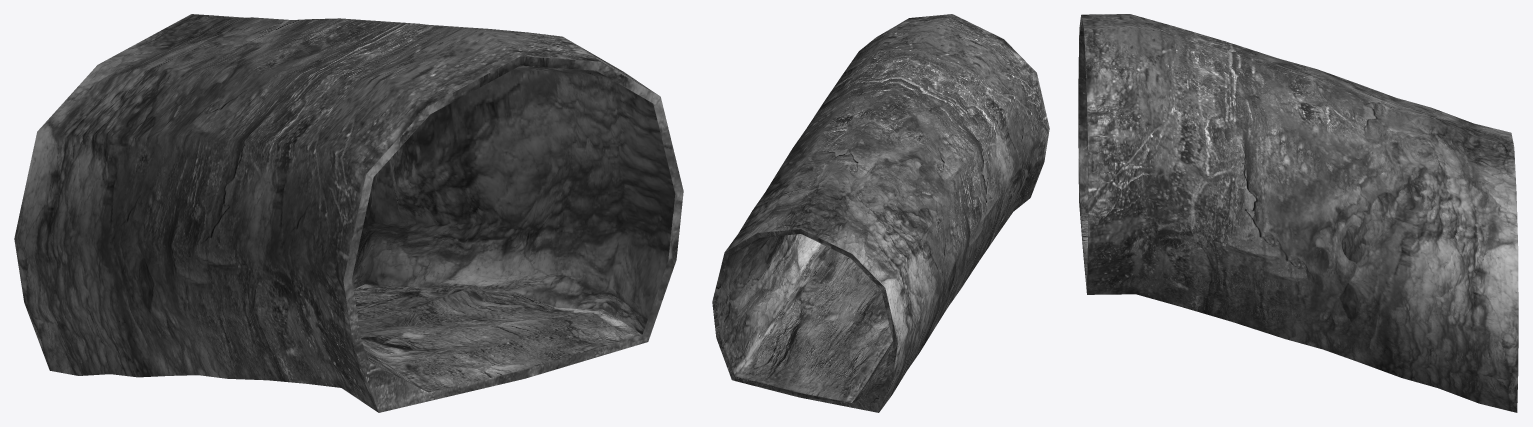
The model's file is caveramp1.fbx.
3 renders of one model, left to right at view 1: azimuth 30°, elevation 25°; view 2: azimuth 150°, elevation 25°; view 3: azimuth 270°, elevation 25°, orthographic. The views are drawn at different scales.
Parts seen in each view (by area): view 1: Group11_cave6; view 2: Group11_cave6; view 3: Group11_cave6.
Boxes of the visible parts, x1,y1,x2,y2 form: Group11_cave6: [14, 14, 683, 412]; Group11_cave6: [712, 14, 1049, 412]; Group11_cave6: [1078, 14, 1518, 412].
Size of the model in its own units: 108 by 141 by 161.
Materials: 2 (2 with a texture image).
